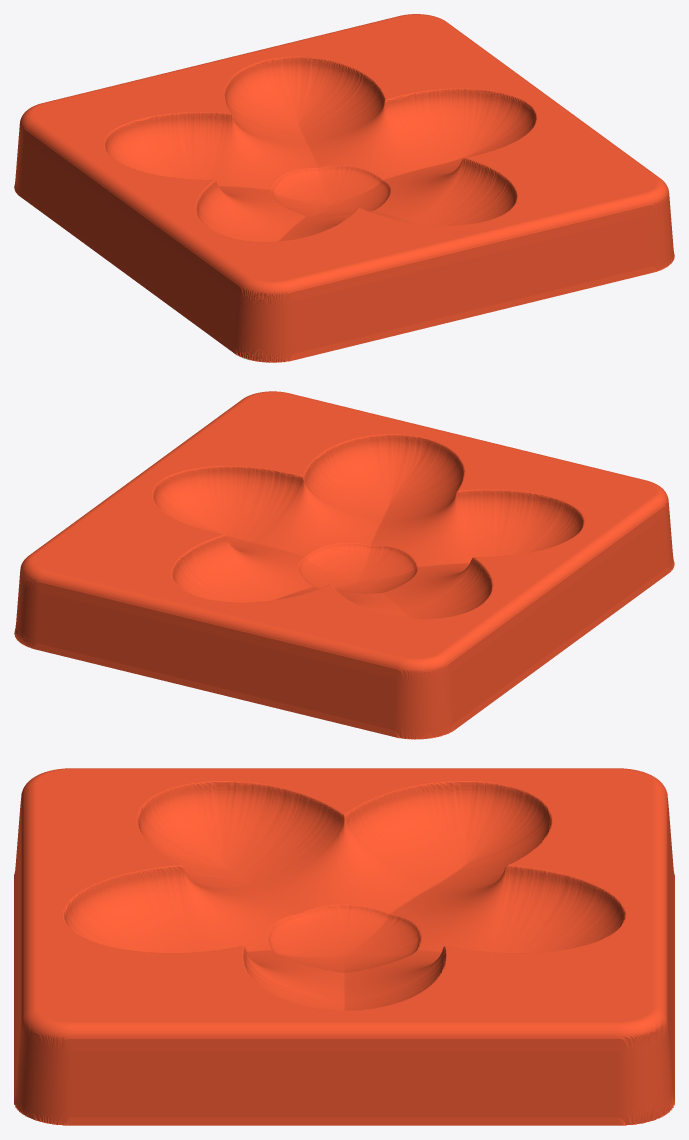
File: mold.glb
The picture shows the model from 3 angles, top to bottom: view 1: azimuth 30°, elevation 25°; view 2: azimuth 150°, elevation 25°; view 3: azimuth 270°, elevation 25°; orthographic projection. The views are drawn at different scales.
Parts seen in each view (by area): view 1: geometry_0; view 2: geometry_0; view 3: geometry_0.
Boxes of the visible parts, left/top/right/bottom form: geometry_0: left=14, top=14, right=674, bottom=362; geometry_0: left=14, top=391, right=674, bottom=739; geometry_0: left=14, top=768, right=674, bottom=1125.
Bounding box in the file's own units: 0.102 × 0.0165 × 0.105.
